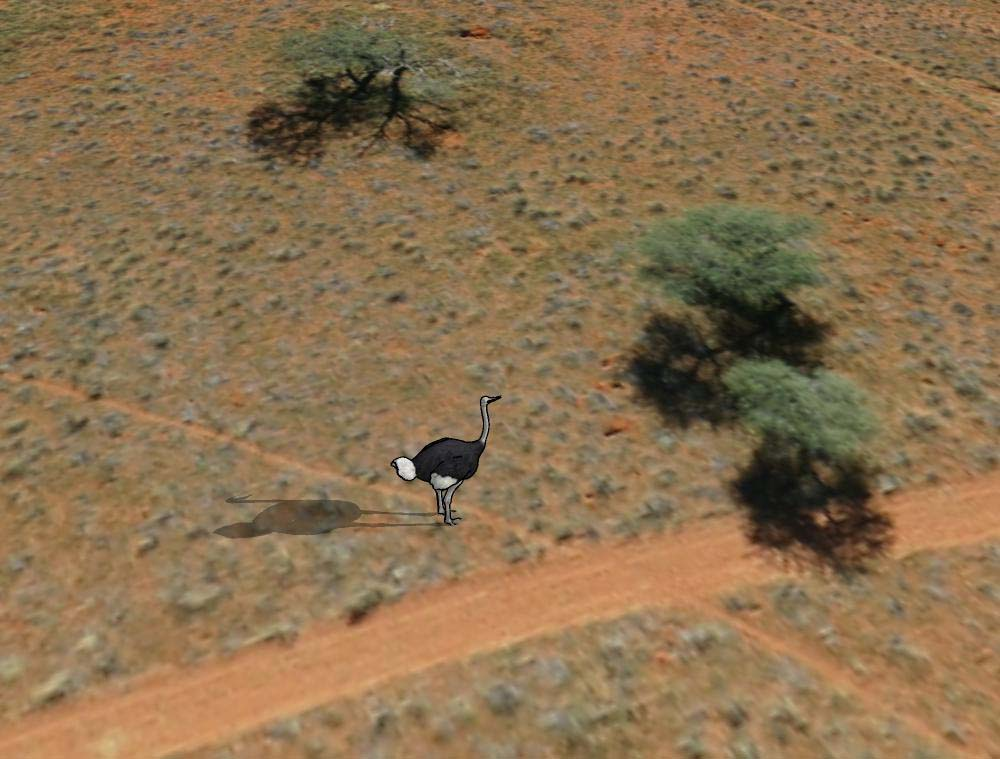springbok: (389, 393, 508, 525)
